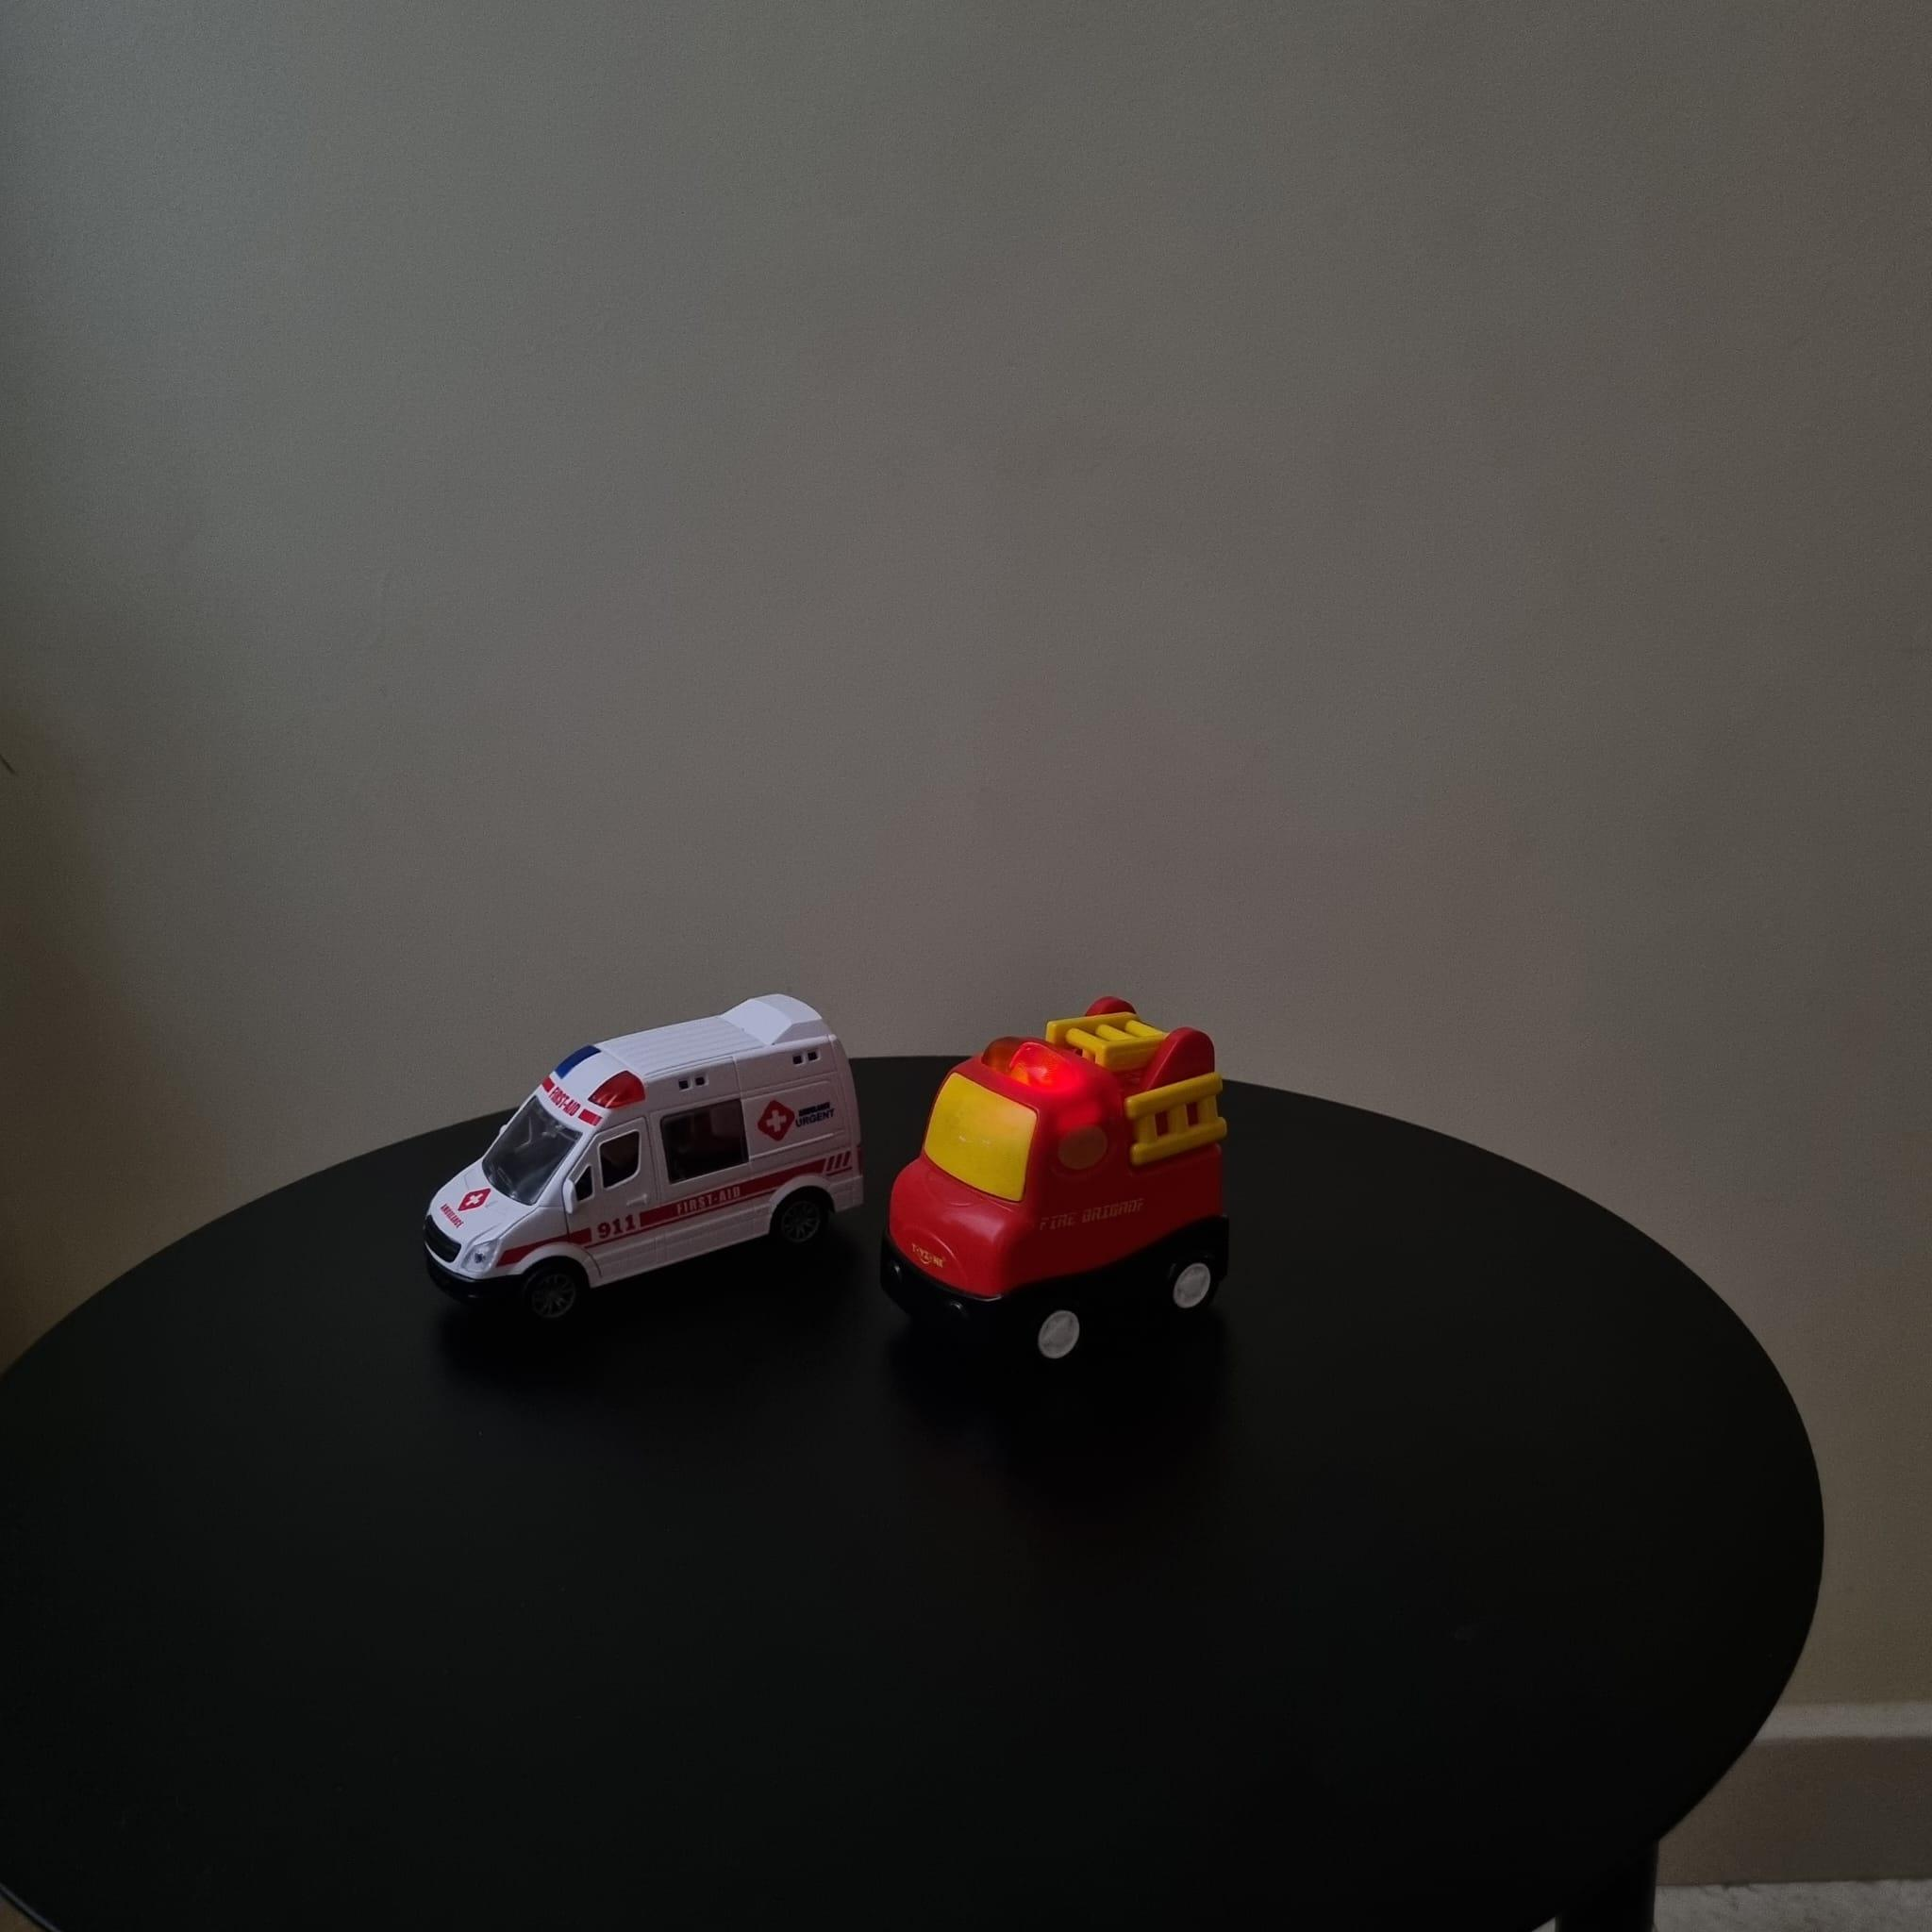ambulance_off: (410, 987, 860, 1315), (897, 987, 1237, 1368)
